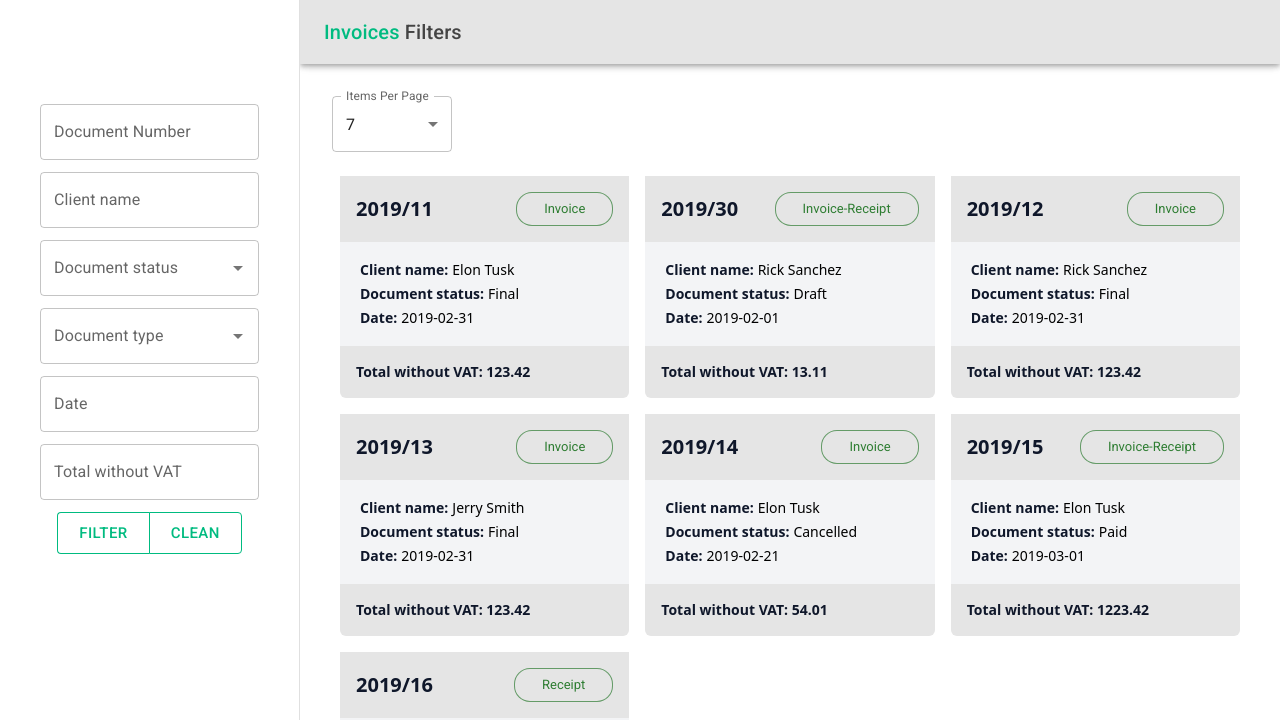
Test case: 3 - Test the card filter › should be possible to filter by document status
Check: the dropdown labelled "Document status" is shown, box [49, 249, 194, 287]
Check: the button "Filter" is shown, box [57, 512, 150, 554]
Type "Elon tusk" into the field labelled "Client name".
click(150, 200); type("Elon tusk")  # box [40, 172, 259, 228]
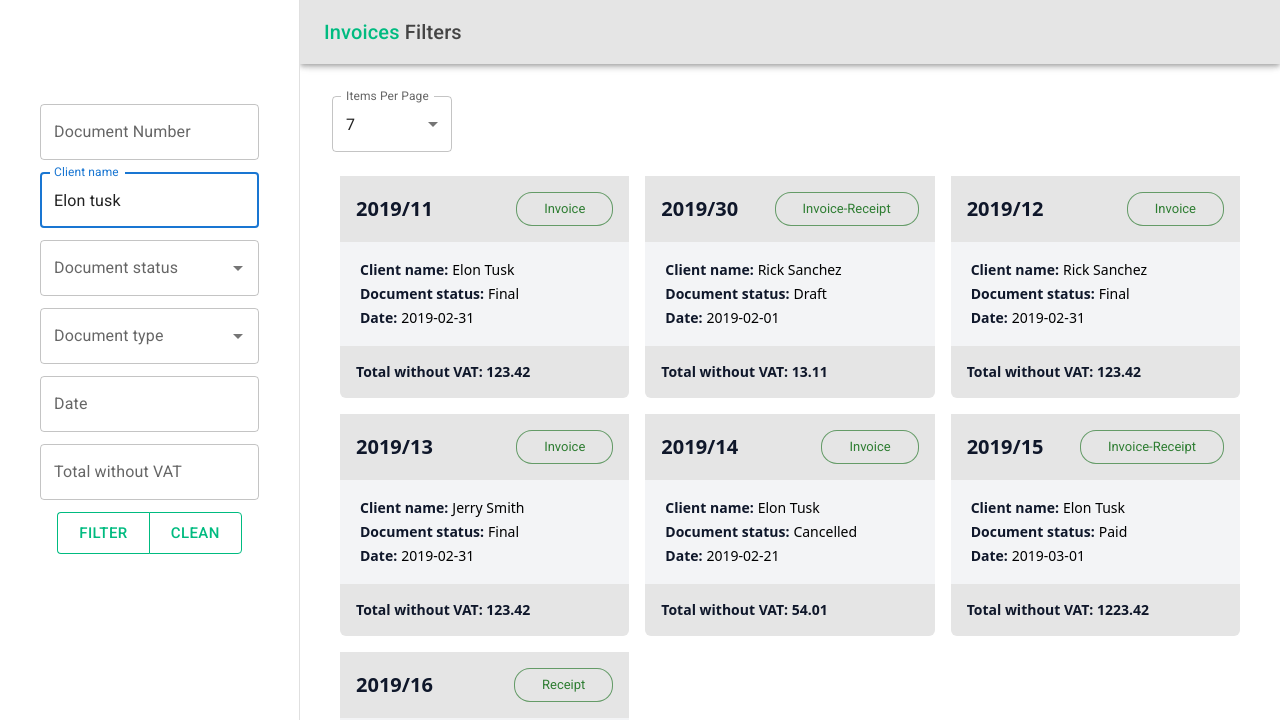
Click the dropdown labelled "Document status".
click(122, 268)  # box [49, 249, 194, 287]
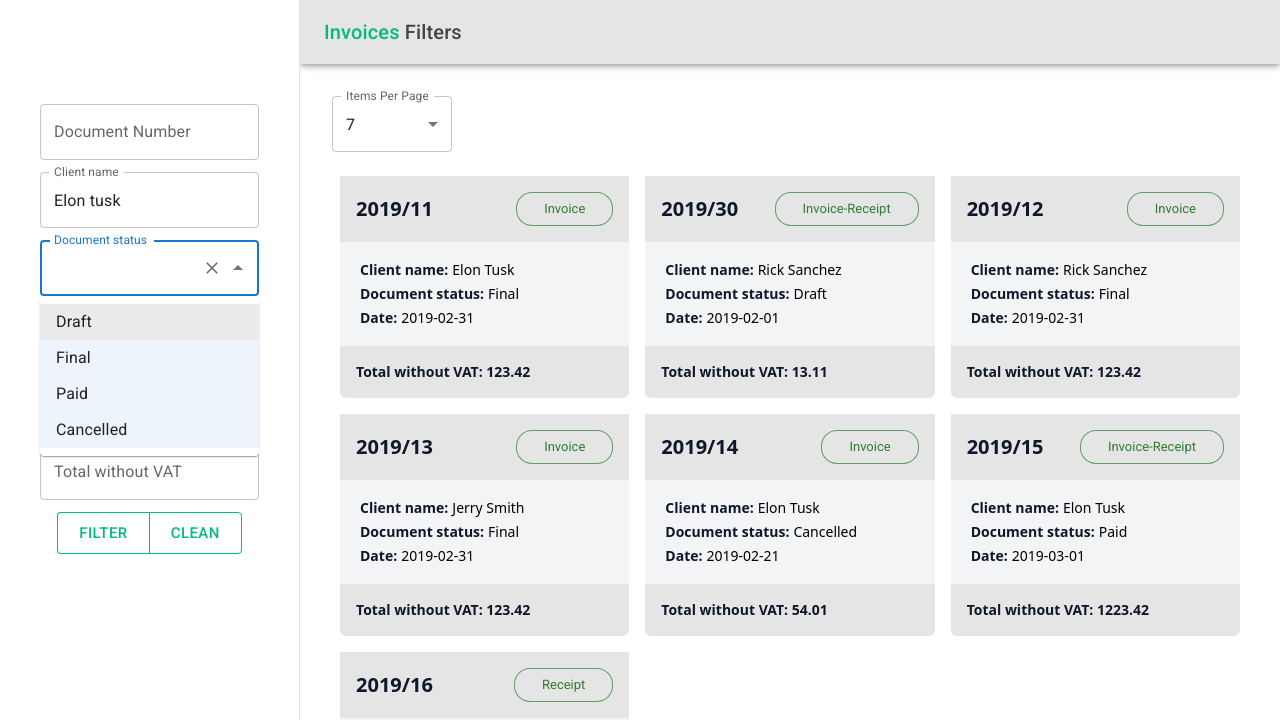
Click the option "Final".
click(150, 358)  # box [40, 340, 259, 376]
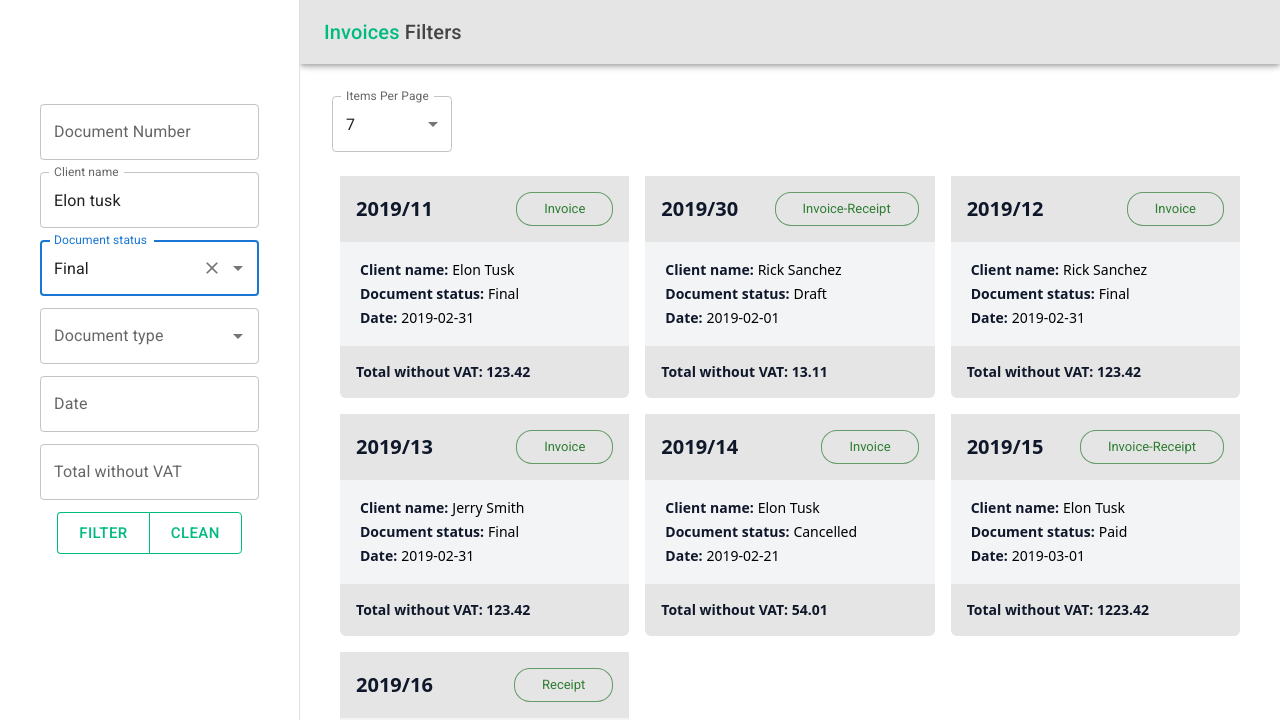
Click the button "Filter".
click(103, 533)  # box [57, 512, 150, 554]
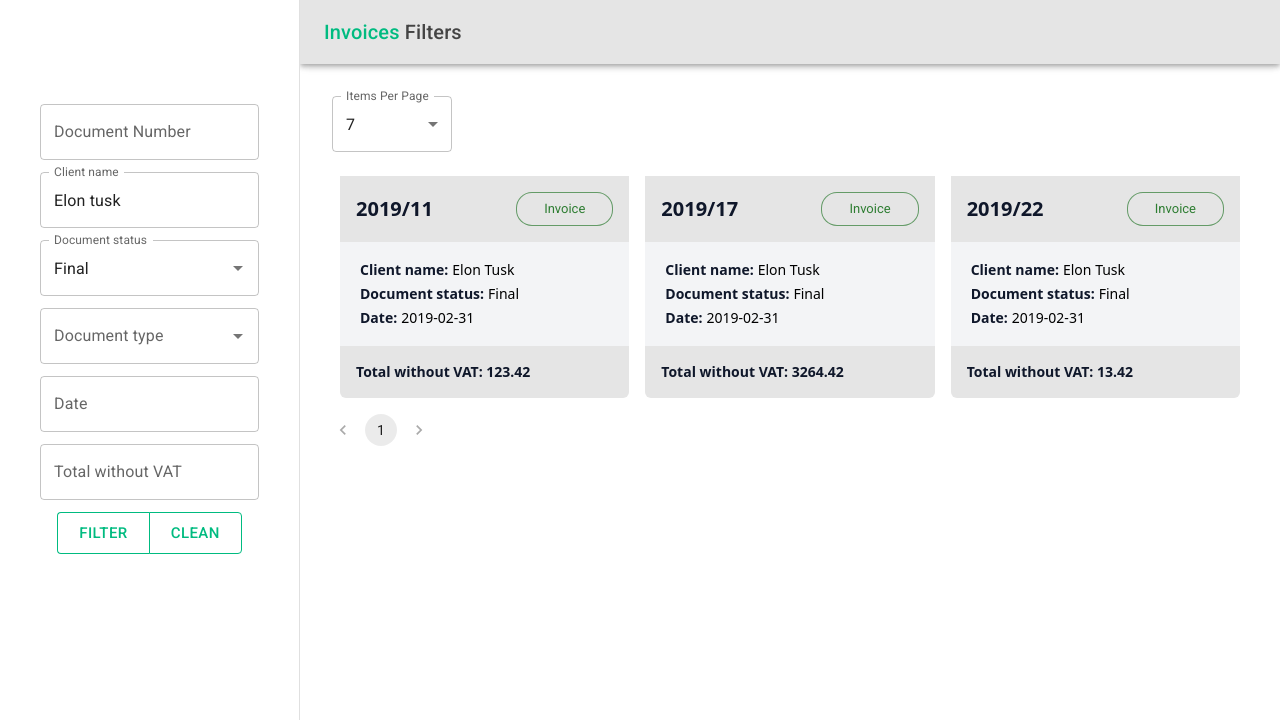
Check: the number of list items "Client name:Elon Tusk" is 3, box [360, 260, 514, 279]; [665, 260, 820, 279]; [971, 260, 1125, 279]
